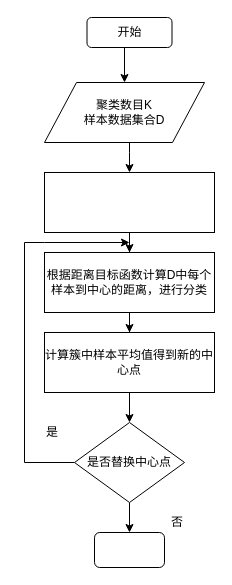
Some shapes in this 232 by 585 pixel diagram are drawn without their labels. The shapes that lost their labels are listed below. From the top down, each one's centre as x and y in pixels, then its label:
At pixel 129 202: "从D中随机选出K个样本数据作为初始中心点".
At pixel 129 550: "结束".
